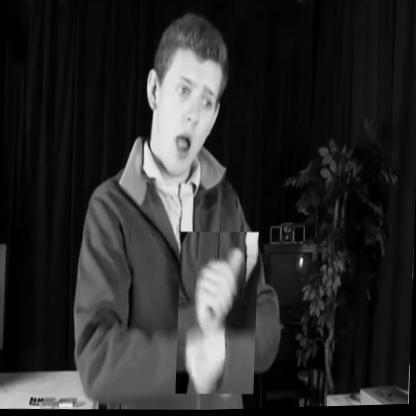HowAreYou: (176, 231, 258, 398)
